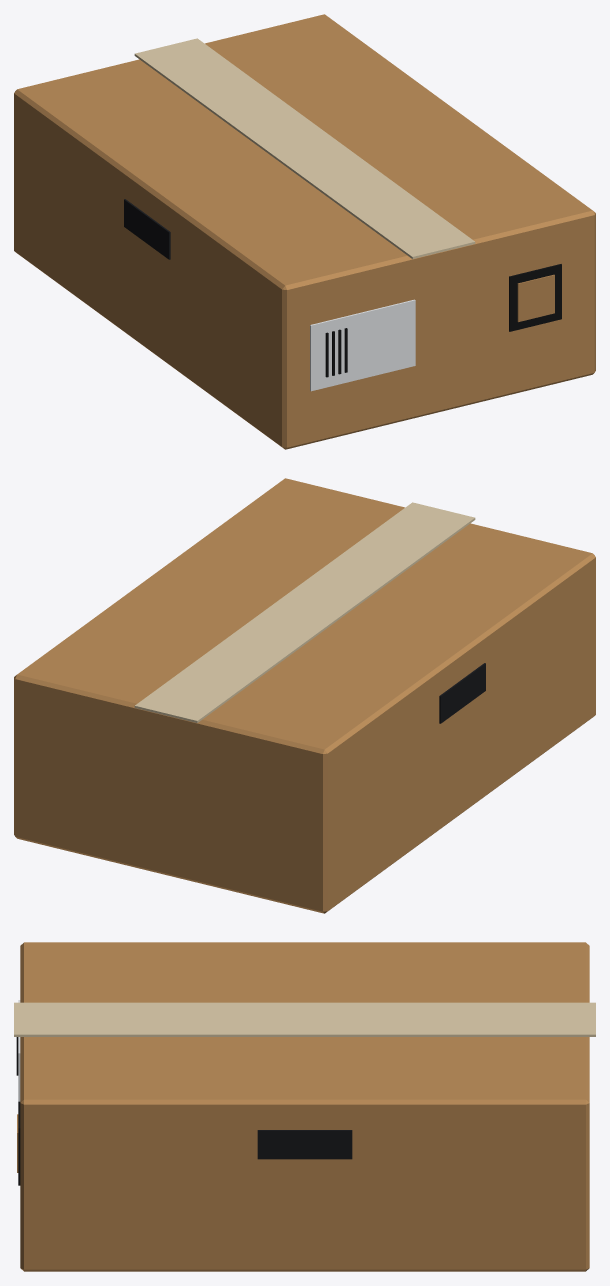
Rendered from 48_Cardboard_Server_Box.fbx.
The picture shows the model from 3 angles, top to bottom: view 1: azimuth 30°, elevation 25°; view 2: azimuth 150°, elevation 25°; view 3: azimuth 270°, elevation 25°; orthographic projection. The views are drawn at different scales.
Parts seen in each view (by area): view 1: 48_Cardboard_Server_Box; view 2: 48_Cardboard_Server_Box; view 3: 48_Cardboard_Server_Box.
Boxes of the visible parts, x1=… form: 48_Cardboard_Server_Box: x1=14, y1=14, x2=595, y2=449; 48_Cardboard_Server_Box: x1=14, y1=478, x2=595, y2=913; 48_Cardboard_Server_Box: x1=14, y1=942, x2=595, y2=1271.
Bounding box in the file's own units: 0.606 × 0.304 × 0.92.
